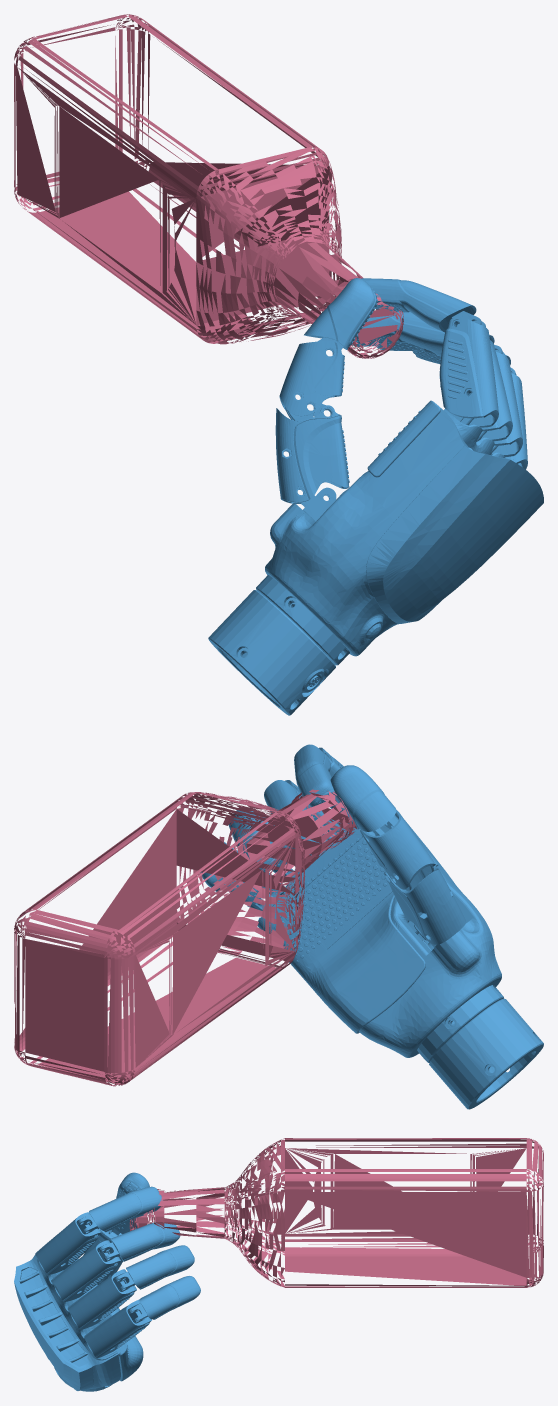
3 renders of one model, top to bottom at view 1: azimuth 30°, elevation 25°; view 2: azimuth 150°, elevation 25°; view 3: azimuth 270°, elevation 25°, orthographic. The views are drawn at different scales.
Visible parts, largest first — view 1: 9; view 2: 9; view 3: 9.
Boxes of the visible parts, x1,y1,x2,y2 form: 9: (14, 14, 543, 715); 9: (14, 744, 543, 1109); 9: (14, 1138, 543, 1391).
Bounding box in the file's own units: 0.1711 × 0.2013 × 0.3464.
